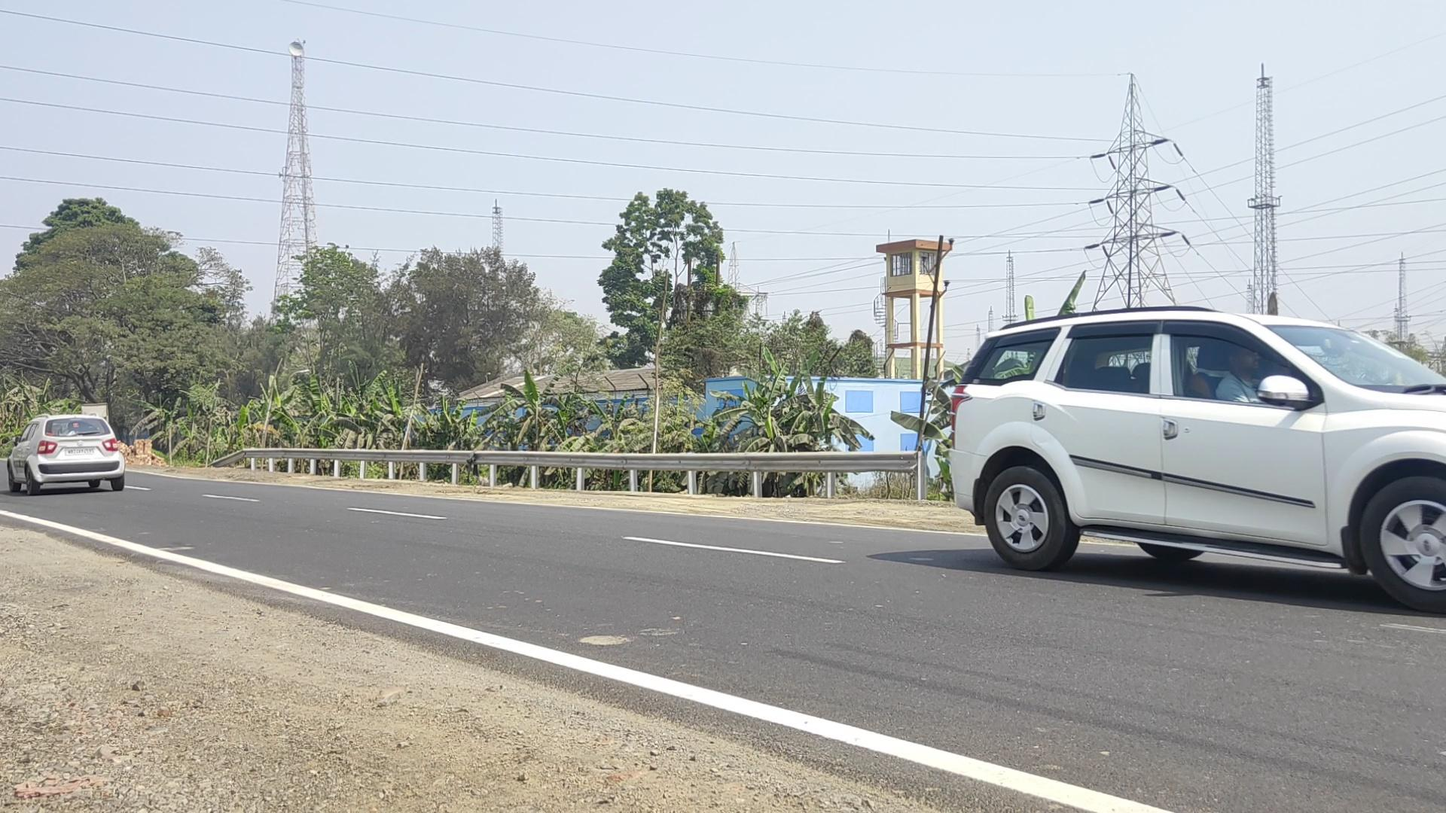car: (950, 306, 1446, 614), (7, 413, 125, 496)
